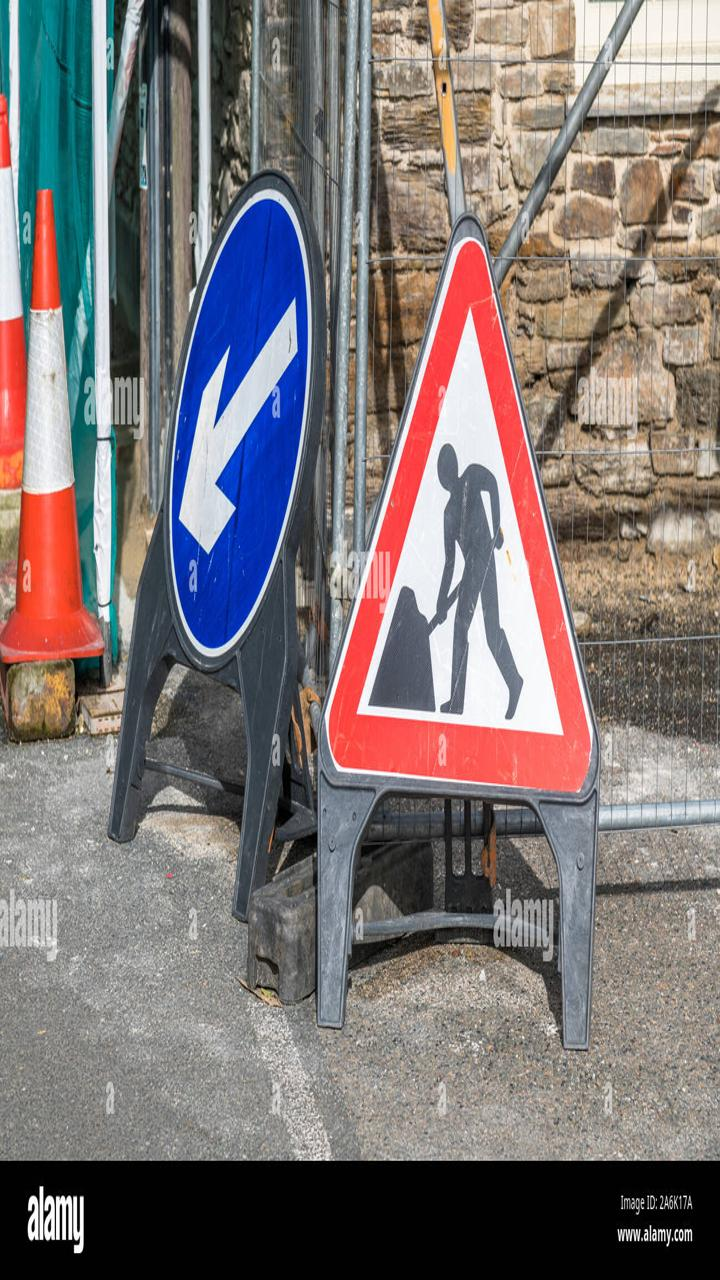Traffic sign: (308, 237, 616, 821), (163, 212, 324, 660)
